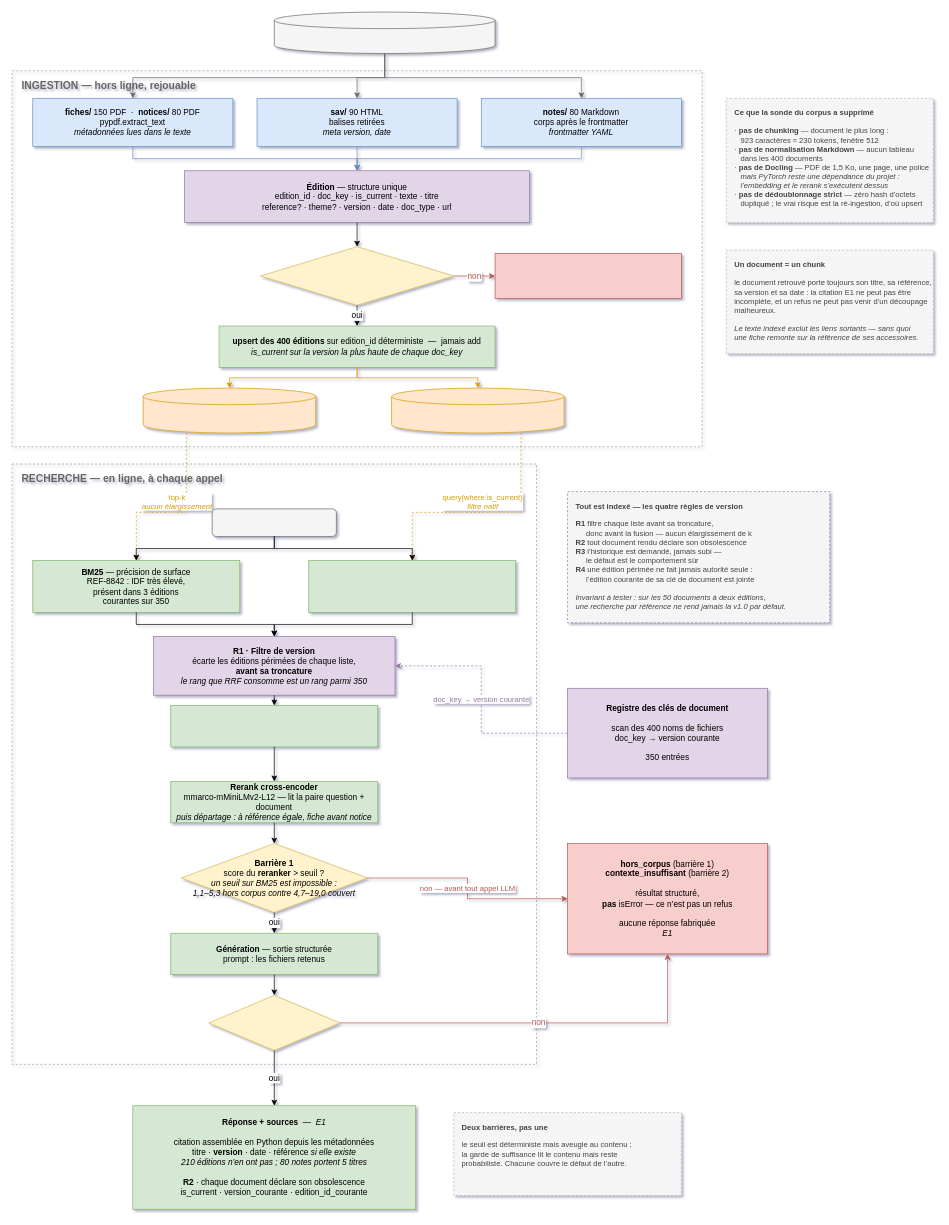
Some shapes in this 949 by 1225 pixel diagram are drawn without their labels. Each missing label, with the centre of its shape:
Barrière 2 suffisant ?: point 274,1023
BM25 — lexical 400 éditions indexées, Python pur texte sans les liens sortants: point 229,410
Chroma — dense 400 vecteurs · multilingual-e5-base préfixes query: / passage:: point 477,410
corpus/ 400 fichiers: point 384,32
Dense — sens et reformulation « quel disjoncteur pour du triphasé ? »: point 412,586
Erreur d’ingestion document non indexé, tracé dans le rapport: point 587,275
Fusion RRF k = 60 les rangs seuls, les scores sont jetés: point 274,726
Question: point 273,522
version du nom de fichier = version du contenu ?: point 357,275
